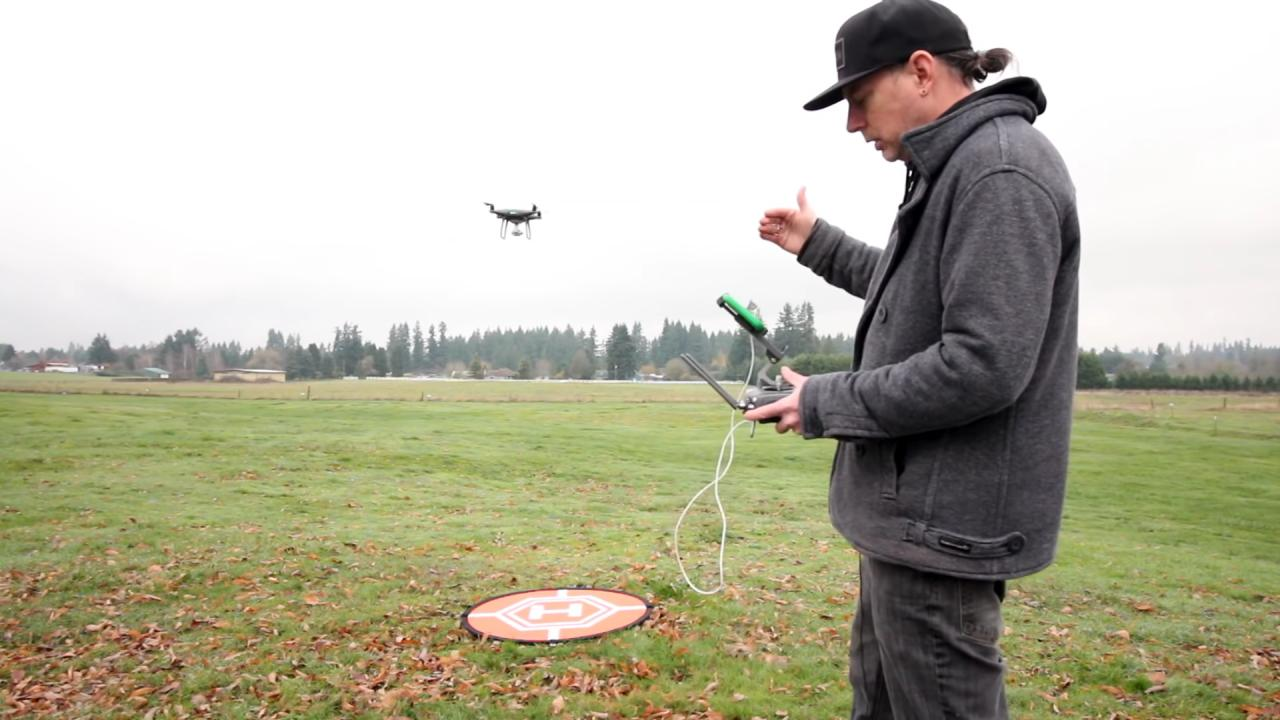Drone: (474, 195, 560, 248)
